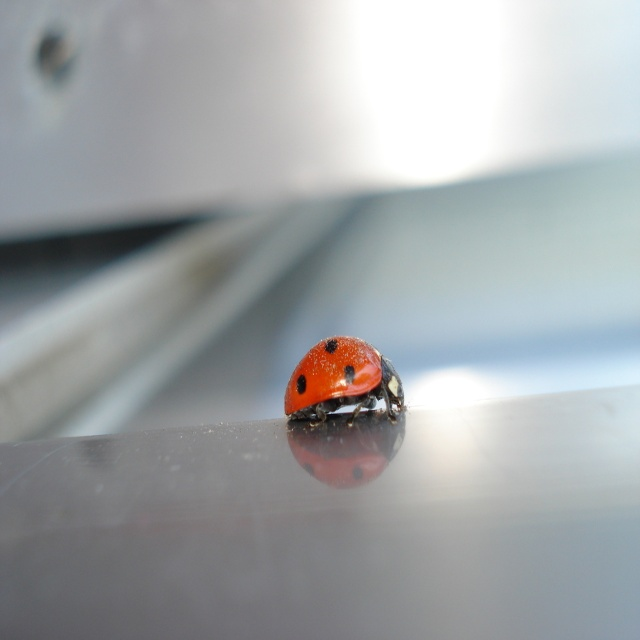Ladybug: (282, 332, 405, 433)
